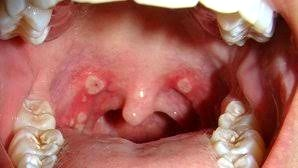Ulcer: (70, 109, 91, 132), (88, 73, 106, 97), (174, 74, 193, 94)
